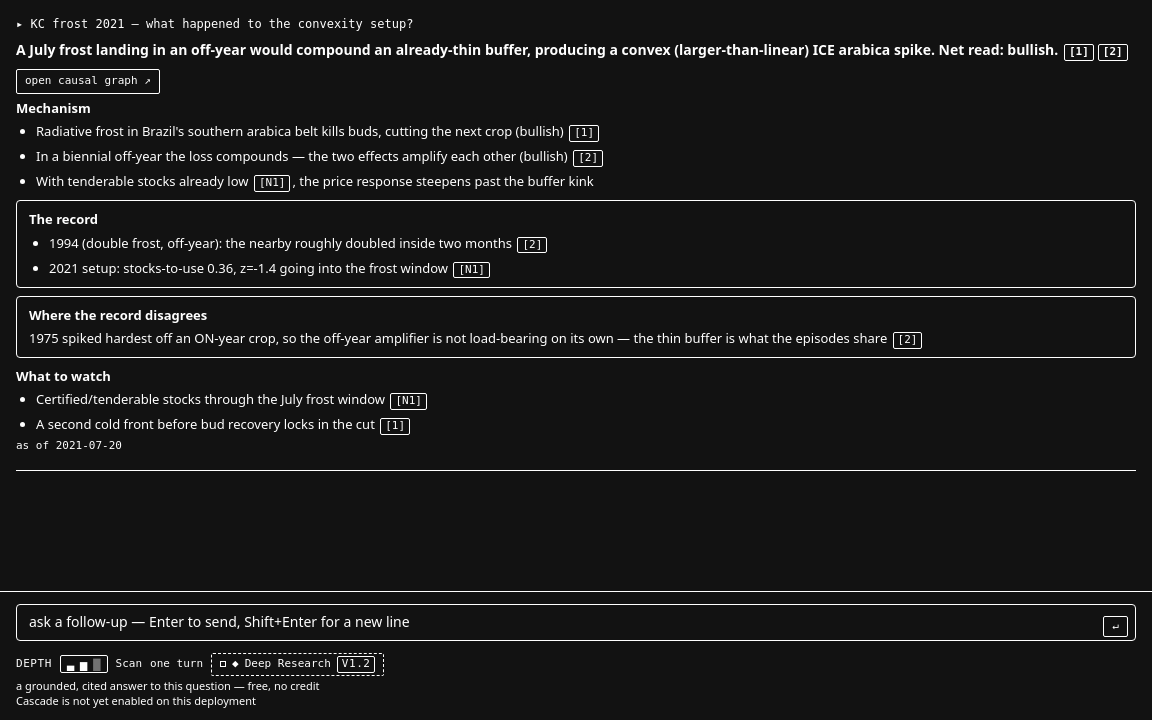
Test: D-TW-23: the LIVE turn keeps clickable citation chips after it settles into `past` › THE REGRESSION: a chip inside a Sections-rendered block opens receipts pinned to its ref
Click the 4th button with test id "cite-chip": {"x": 588, "y": 158} [573,150,603,167]
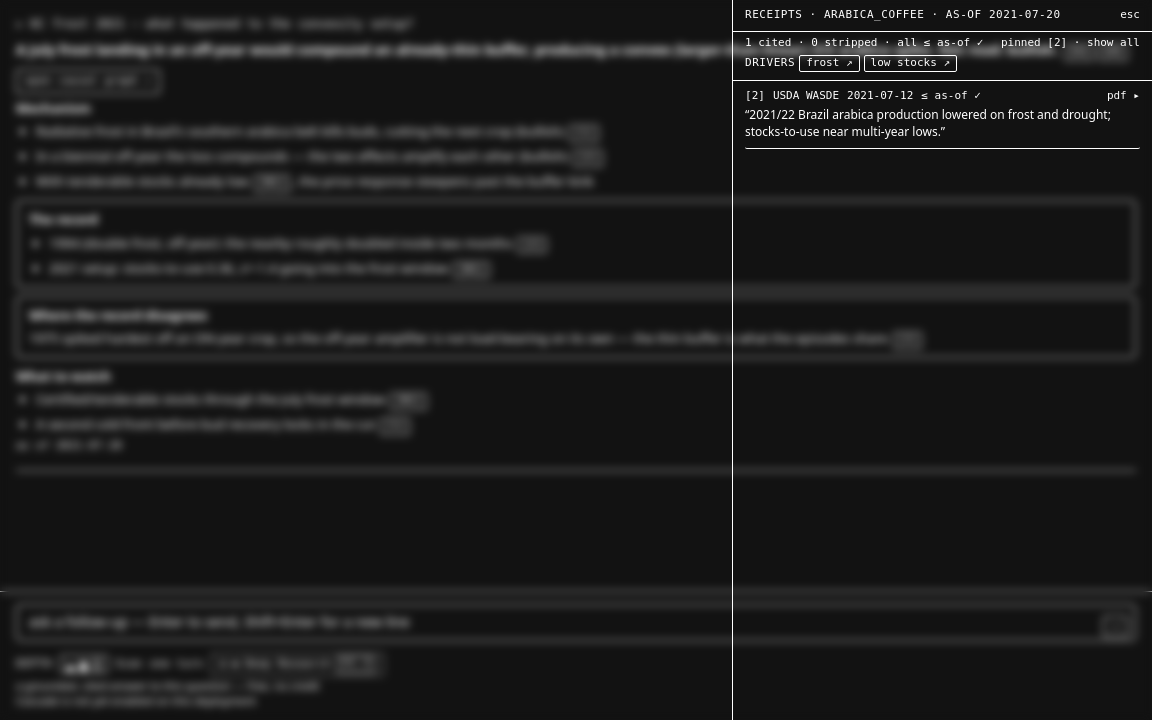
expect the button "pinned [2] · show all" is shown: met, box [1001,36,1140,51]
expect the dialog with test id "receipts" shows "1 cited": met, box [732,0,1151,719]
